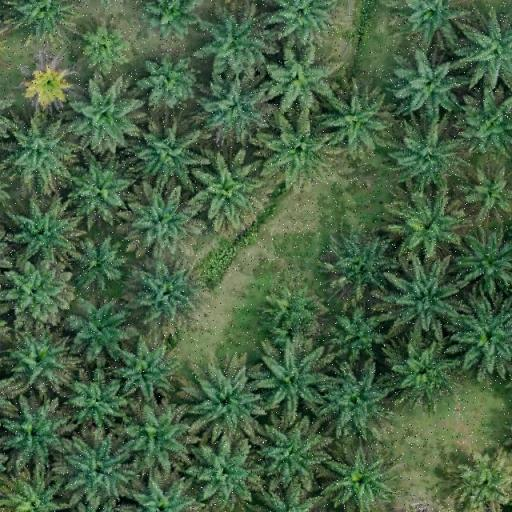Ganoderma: (30, 67, 68, 106)
